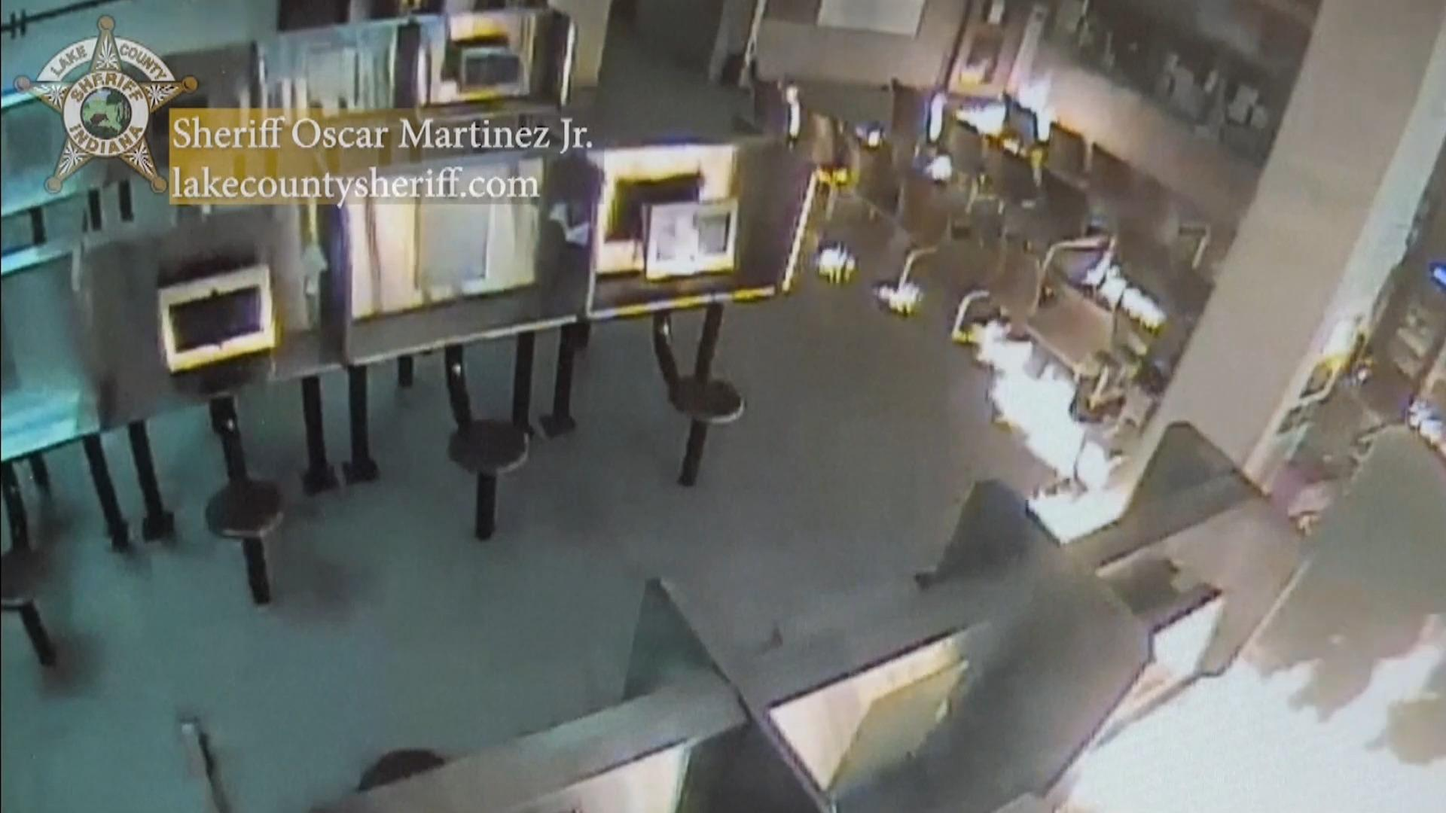fire: (1062, 618, 1446, 813), (971, 321, 1126, 544), (952, 72, 1058, 143)
